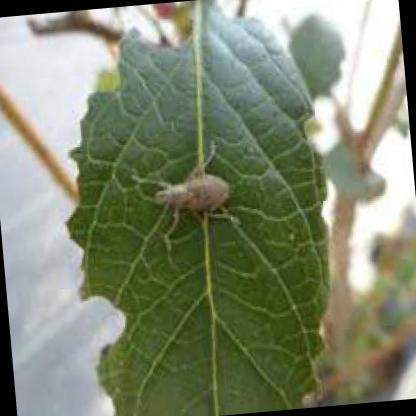ash weevil: (137, 146, 246, 228)
